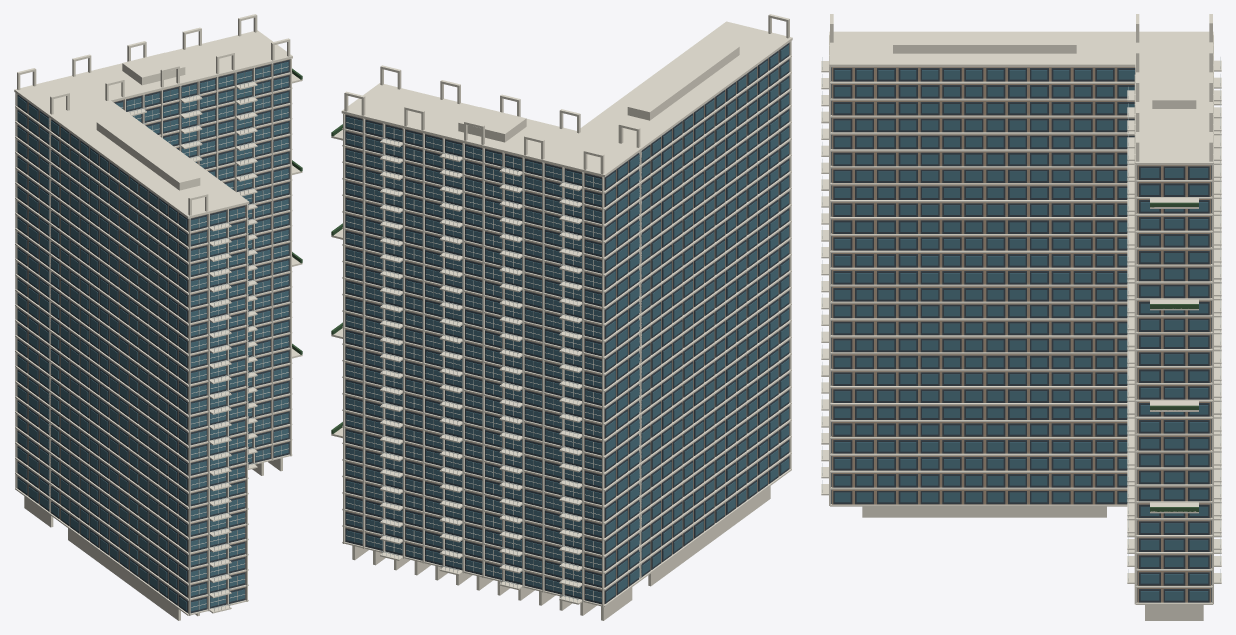
File: tower-lavista.glb
3 views of the same model, side by side, from view 1: azimuth 30°, elevation 25°; view 2: azimuth 150°, elevation 25°; view 3: azimuth 270°, elevation 25° (orthographic). The views are drawn at different scales.
Parts seen in each view (by area): view 1: glass, ivory, dark, sand, rail; view 2: glass, ivory, dark, sand, rail; view 3: glass, ivory, dark, sand, rail, leaf.
Boxes of the visible parts, x1,y1,x2,y2 form: glass: (17, 62, 288, 611); ivory: (14, 14, 302, 620); dark: (17, 60, 289, 613); sand: (17, 59, 289, 612); rail: (129, 80, 256, 611); glass: (346, 45, 788, 602); ivory: (331, 14, 792, 620); dark: (345, 43, 789, 604); sand: (345, 50, 789, 604); rail: (380, 137, 578, 602); glass: (834, 70, 1208, 600); ivory: (821, 14, 1221, 620); dark: (831, 67, 1211, 602); sand: (832, 67, 1210, 602); rail: (822, 57, 1220, 581); leaf: (1150, 202, 1198, 511).
Size of the model in its own units: 54.2 by 86.55 by 65.41.
